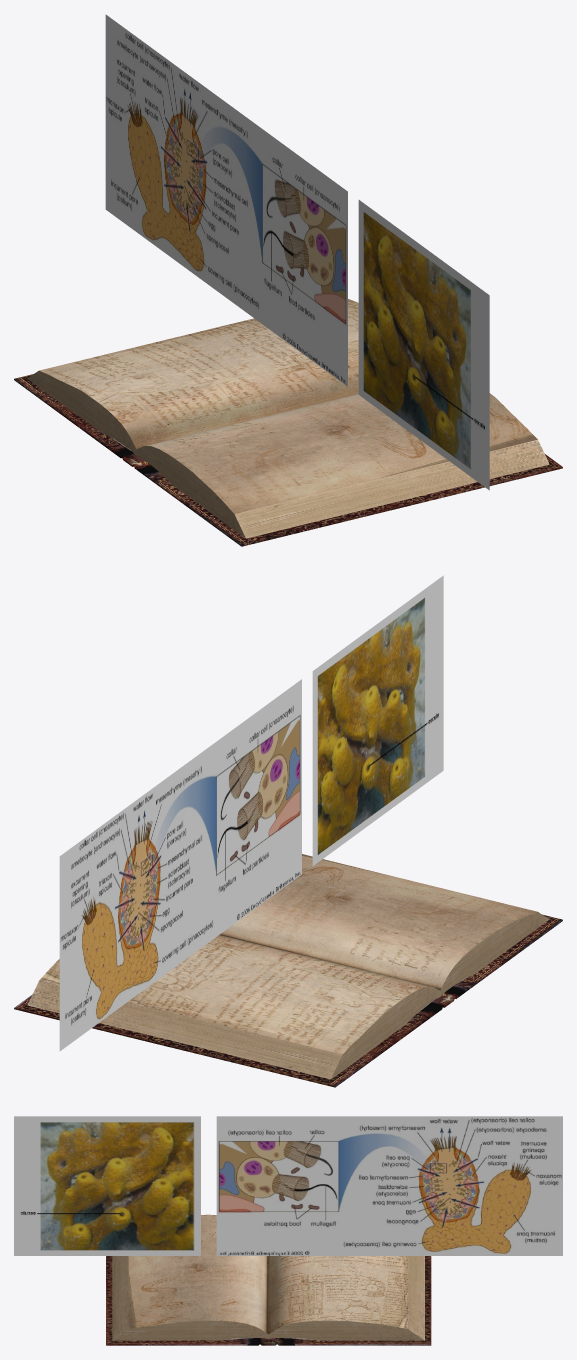
The model's file is osculum.glb.
3 renders of one model, top to bottom at view 1: azimuth 30°, elevation 25°; view 2: azimuth 150°, elevation 25°; view 3: azimuth 270°, elevation 25°, orthographic. The views are drawn at different scales.
Parts seen in each view (by area): view 1: polySurface23, osculum_2, osculum_1, polySurface21; view 2: polySurface23, osculum_2, osculum_1, polySurface21; view 3: osculum_2, polySurface23, osculum_1, polySurface21.
Boxes of the visible parts, bbox=[...] form: polySurface23: bbox=[27, 299, 549, 538]; osculum_2: bbox=[105, 14, 347, 386]; osculum_1: bbox=[358, 200, 489, 490]; polySurface21: bbox=[14, 374, 562, 546]; polySurface23: bbox=[27, 854, 549, 1079]; osculum_2: bbox=[59, 679, 301, 1051]; osculum_1: bbox=[312, 575, 443, 865]; polySurface21: bbox=[14, 915, 562, 1087]; osculum_2: bbox=[216, 1116, 562, 1255]; polySurface23: bbox=[112, 1214, 424, 1340]; osculum_1: bbox=[14, 1116, 200, 1255]; polySurface21: bbox=[106, 1256, 431, 1345].
Size of the model in its own units: 2.31 by 1.74 by 4.77.
Materials: 7 (5 with a texture image).
